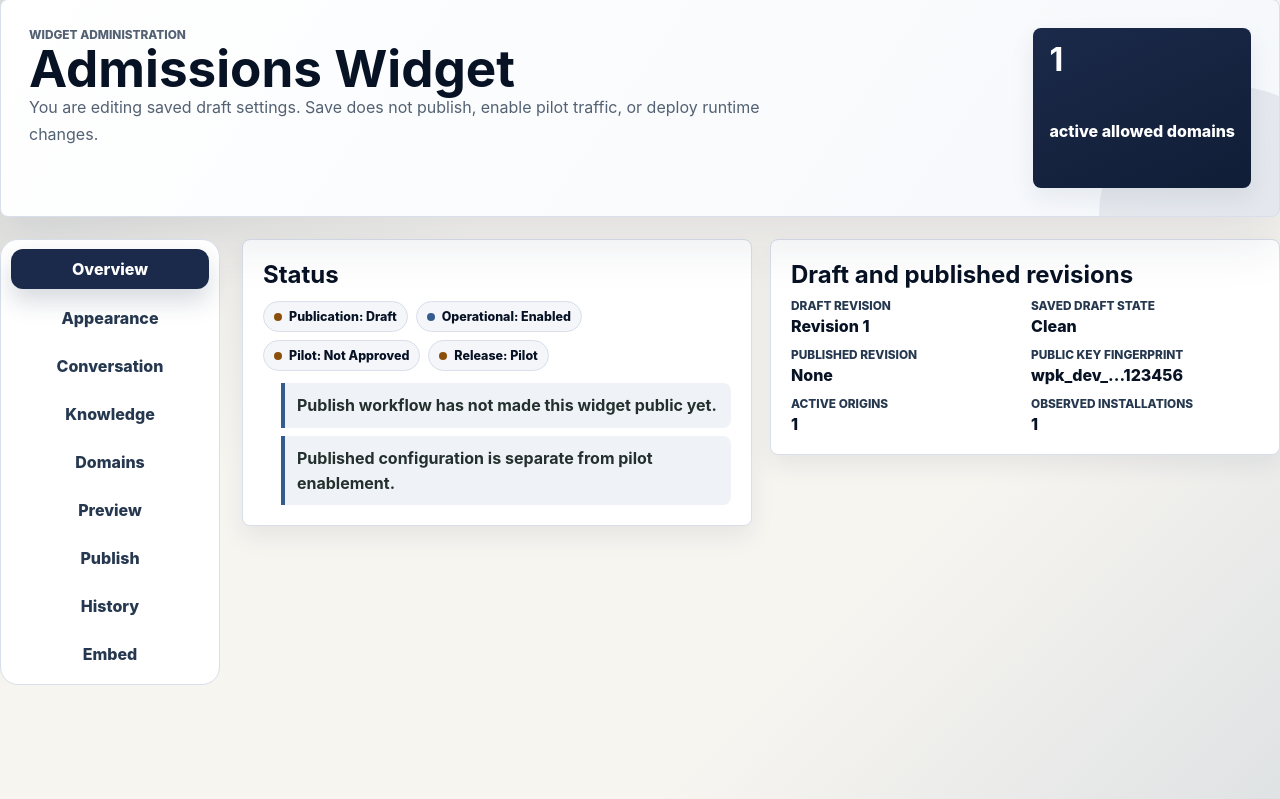
Scenario: widget administration frontend › rotates the public key only after confirmation
Click the tab "Embed" at (110, 654), box [11,634,209,674]
(page scrolled)
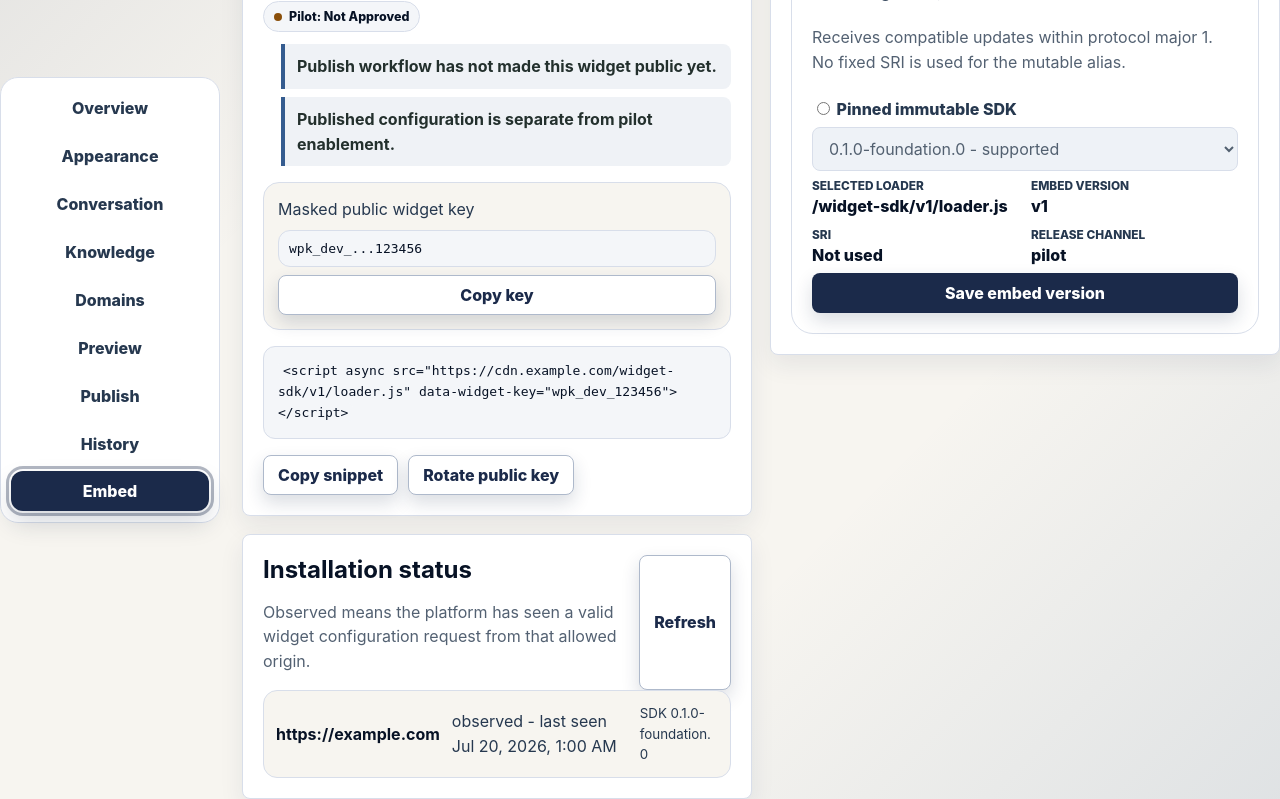
Click the button "Rotate public key" at (491, 475), box [408,455,574,495]
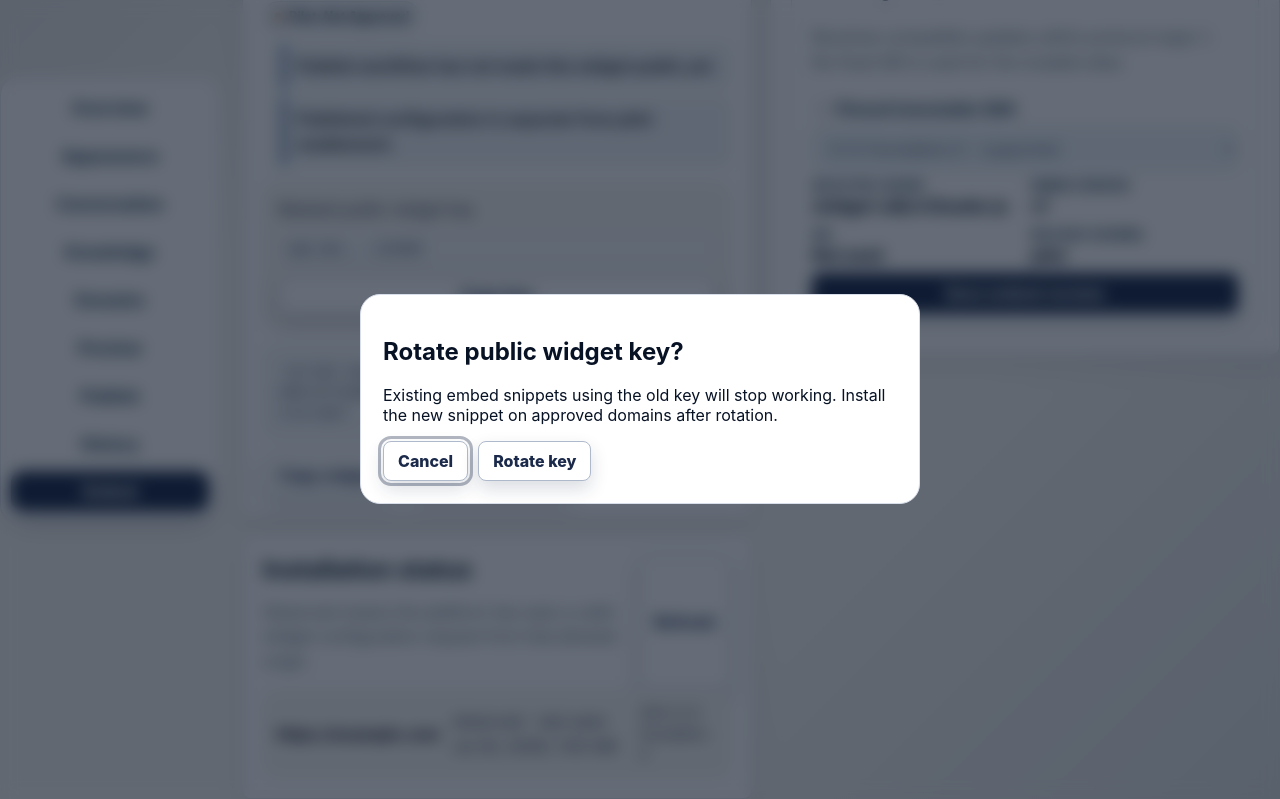
Expected: the dialog "Rotate public widget key?" is shown, [360,294,920,504]
Click the button "Rotate key" at (535, 461), box [478,441,591,481]
(page scrolled)
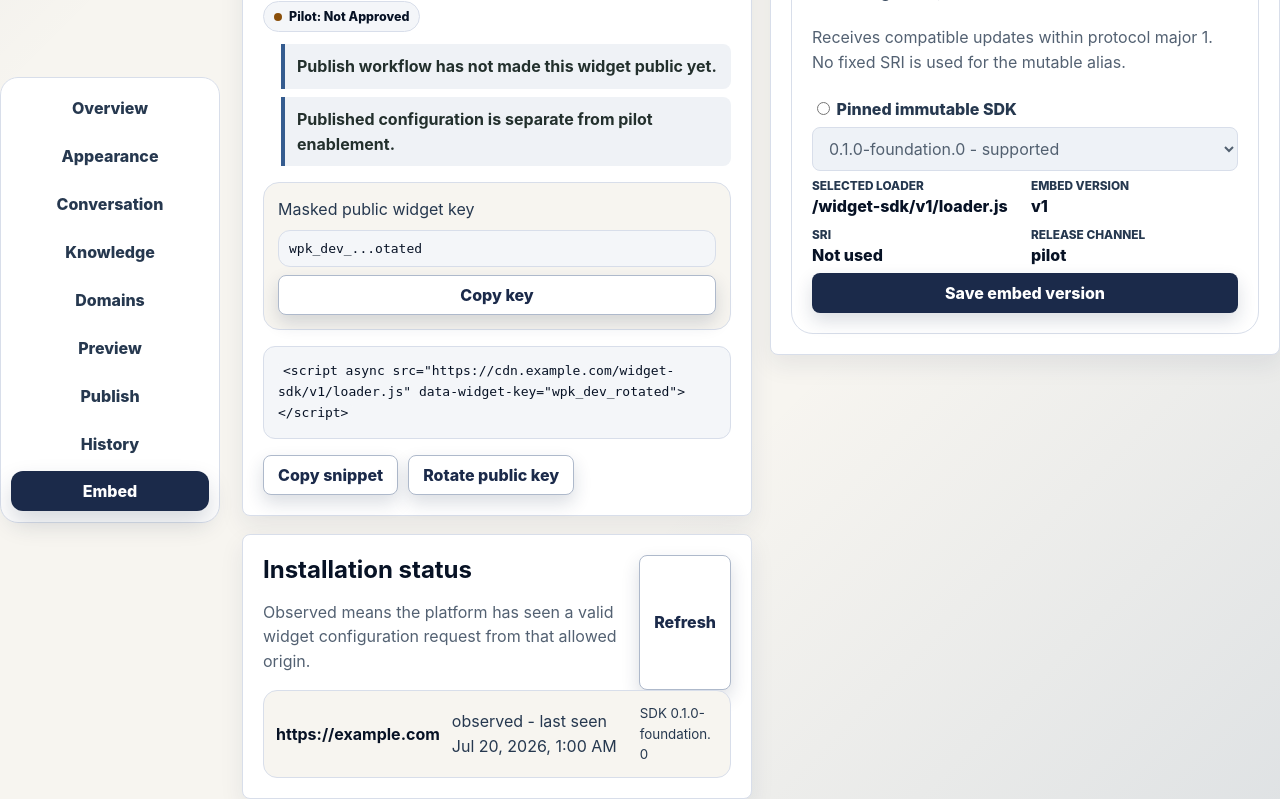
Expected: the text "wpk_dev_...otated" is shown, [278,230,716,267]
